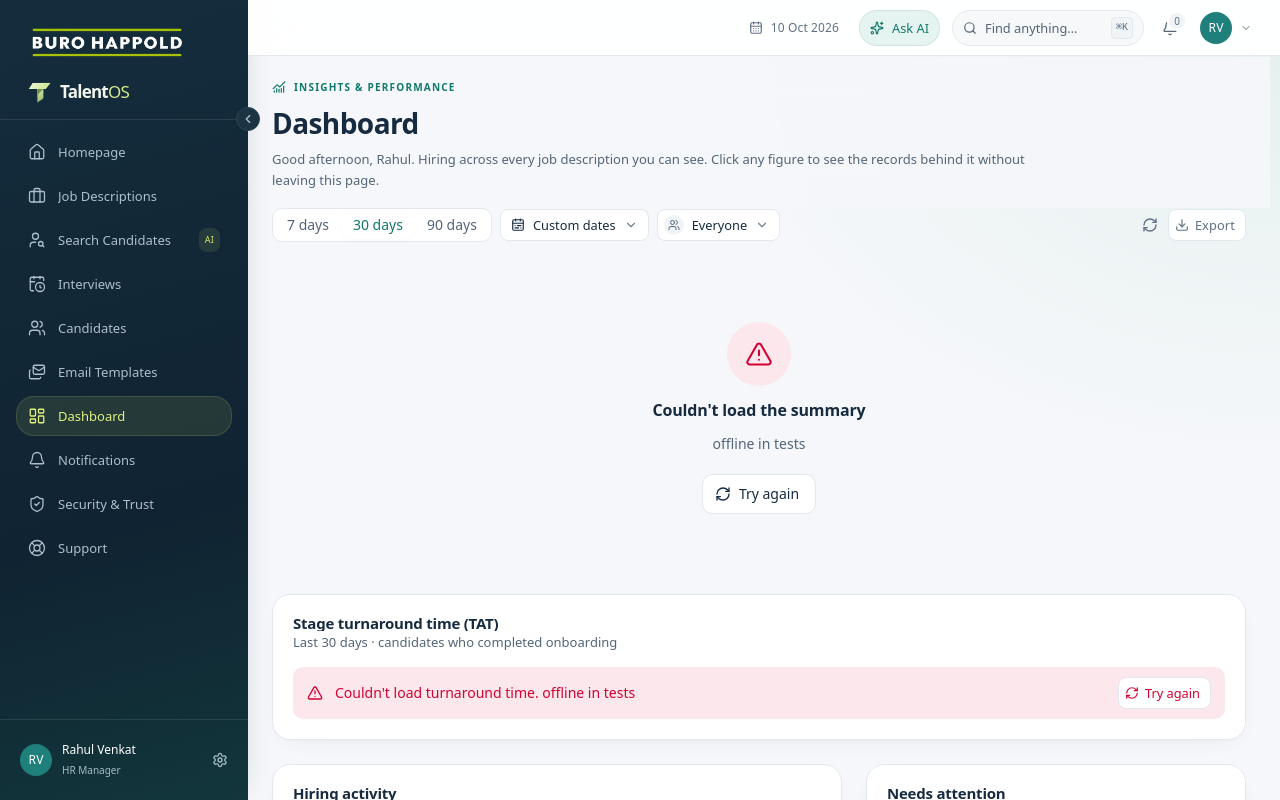
Test: app shell routing › collapses the sidebar and remembers the choice in localStorage
The image size is (1280, 800).
Expected: the heading "Dashboard" is shown, [272,105,419,141]
Click the button named "Collapse sidebar". click: (248, 119)
box: [236,107,260,131]
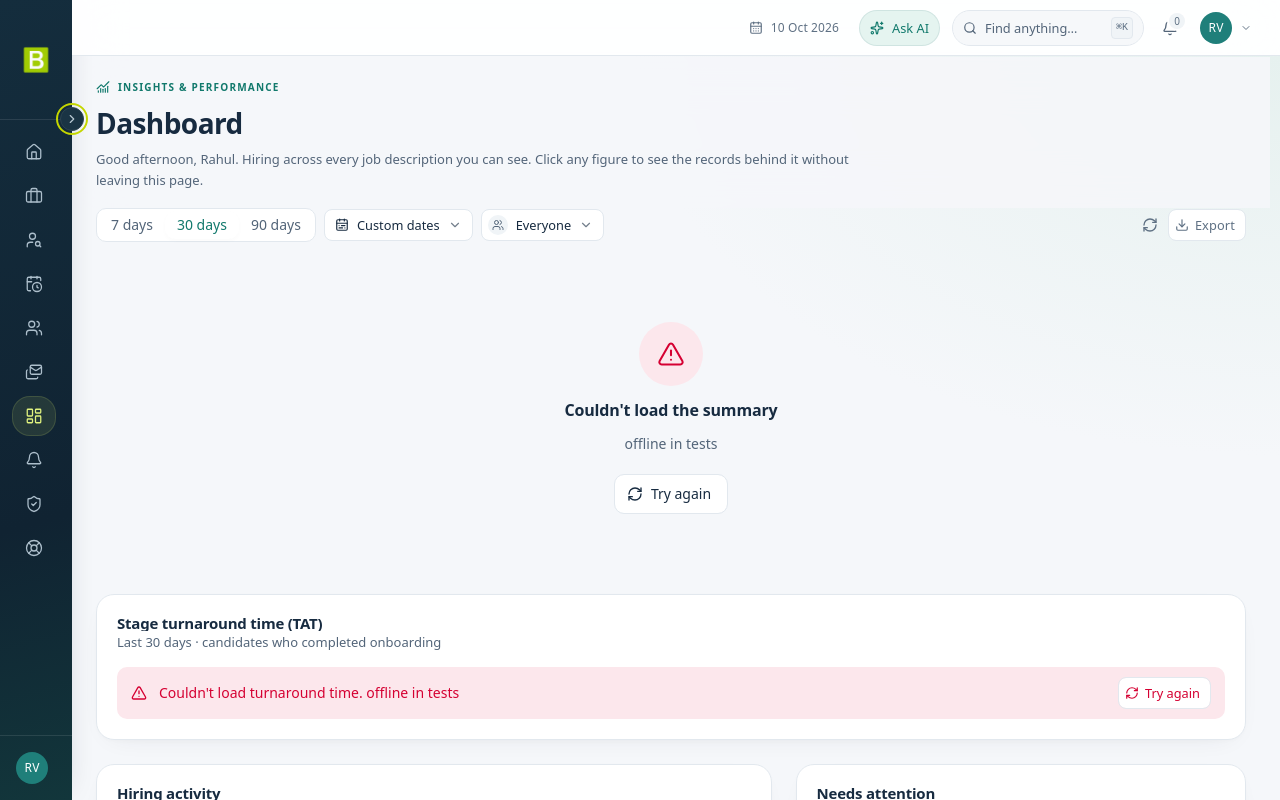
Expected: the button named "Expand sidebar" is shown, [60,107,84,131]
